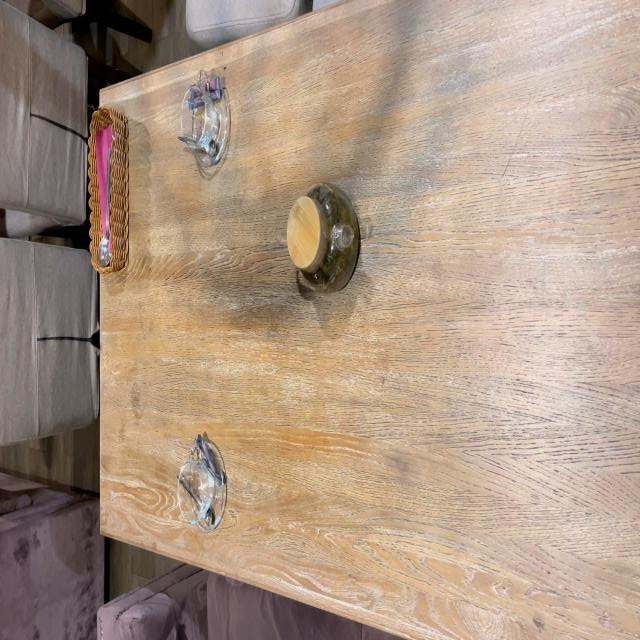tea: (279, 175, 364, 297)
